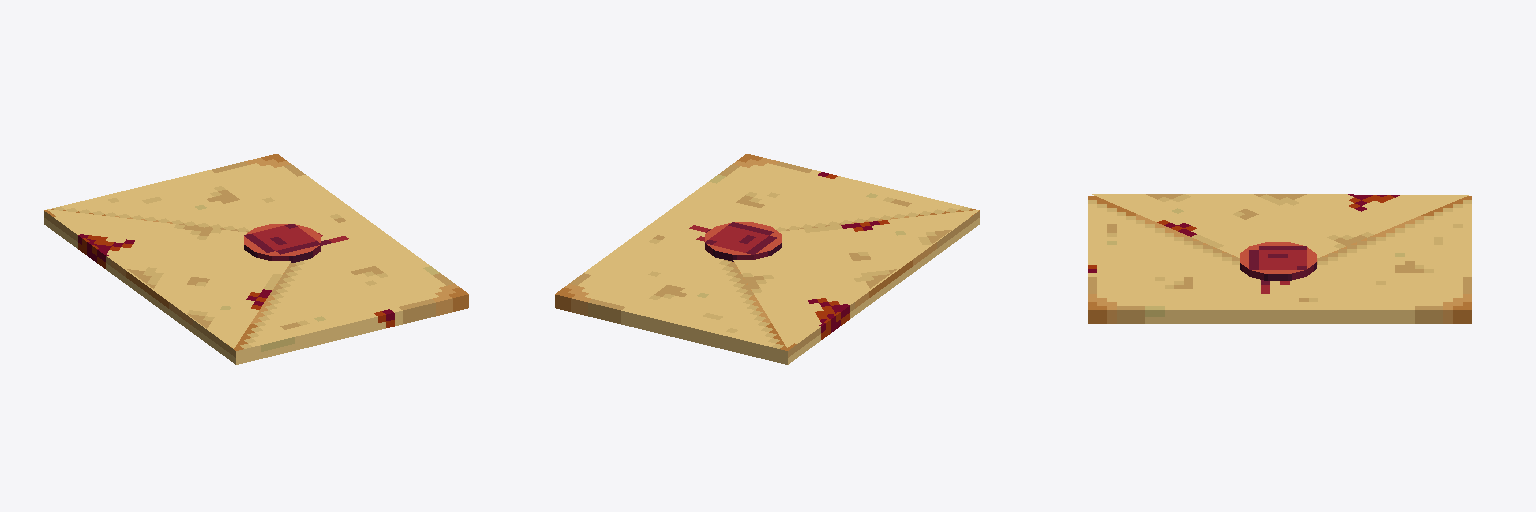
3 renders of one model, left to right at view 1: azimuth 30°, elevation 25°; view 2: azimuth 150°, elevation 25°; view 3: azimuth 270°, elevation 25°, orthographic.
Parts seen in each view (by area): view 1: cuboid, cylinder; view 2: cuboid, cylinder; view 3: cuboid, cylinder.
Boxes of the visible parts, box(x1,y1,x2,y2) form: cuboid: box(44, 154, 468, 364); cylinder: box(244, 224, 320, 262); cuboid: box(555, 154, 979, 364); cylinder: box(705, 222, 781, 261); cuboid: box(1088, 194, 1471, 323); cylinder: box(1240, 242, 1316, 280).
Bounding box in the file's own units: 0.8804 × 0.075 × 1.25.
Materials: 1 (1 with a texture image).